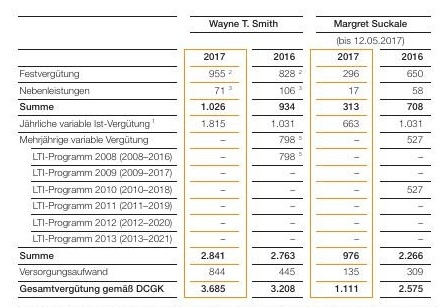table: (0, 0, 440, 307)
